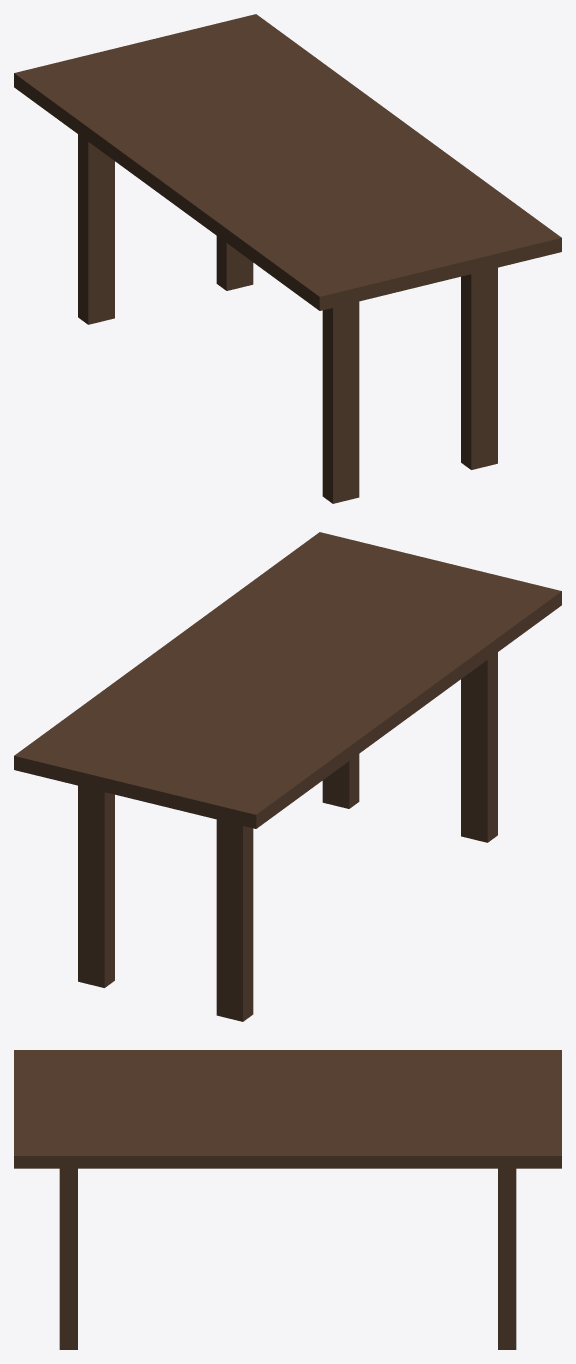
The model's file is mesa sin detalles.fbx.
The picture shows the model from 3 angles, top to bottom: view 1: azimuth 30°, elevation 25°; view 2: azimuth 150°, elevation 25°; view 3: azimuth 270°, elevation 25°; orthographic projection. The views are drawn at different scales.
Visible parts, largest first — view 1: Cube; view 2: Cube; view 3: Cube.
Boxes of the visible parts, left/top/right/bottom form: Cube: left=14, top=14, right=561, bottom=503; Cube: left=14, top=532, right=561, bottom=1021; Cube: left=14, top=1050, right=561, bottom=1349.
Bounding box in the file's own units: 830 × 770 × 1816.
